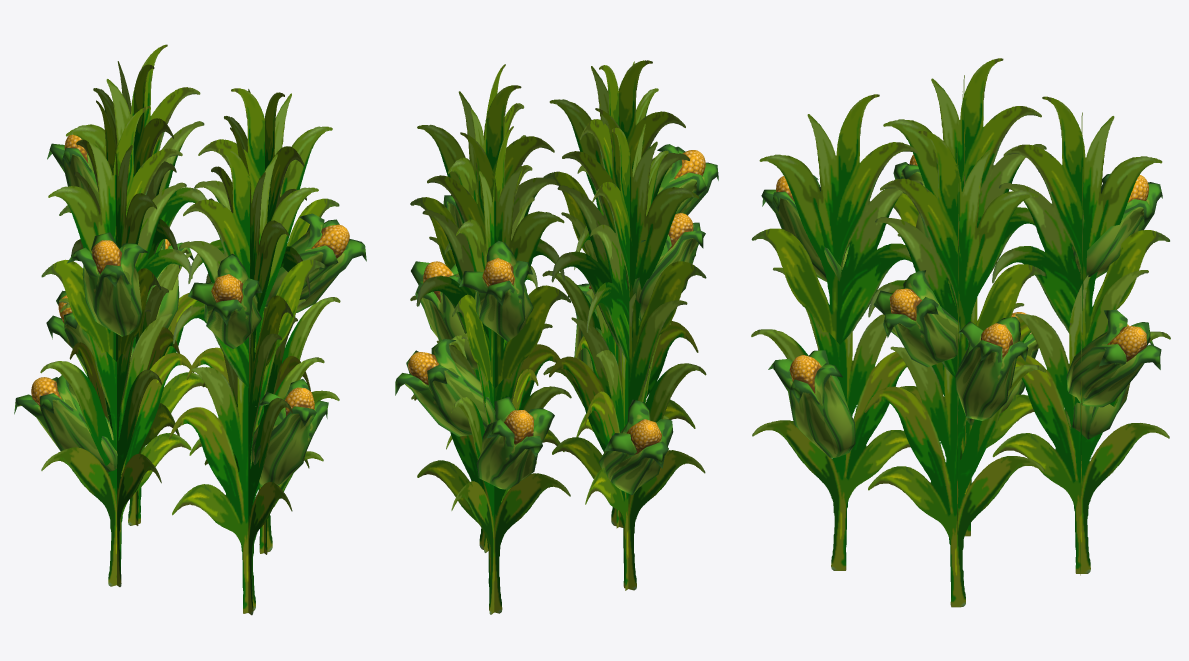
The model's file is Corn_Step03.fbx.
The picture shows the model from 3 angles, left to right: view 1: azimuth 30°, elevation 25°; view 2: azimuth 150°, elevation 25°; view 3: azimuth 270°, elevation 25°; orthographic projection.
Visible parts, largest first — view 1: Corn_Step03; view 2: Corn_Step03; view 3: Corn_Step03.
Boxes of the visible parts, x1,y1,x2,y2 form: Corn_Step03: (14,44,366,615); Corn_Step03: (395,60,718,614); Corn_Step03: (751,58,1170,607).
Size of the model in its own units: 215 by 322 by 258.
